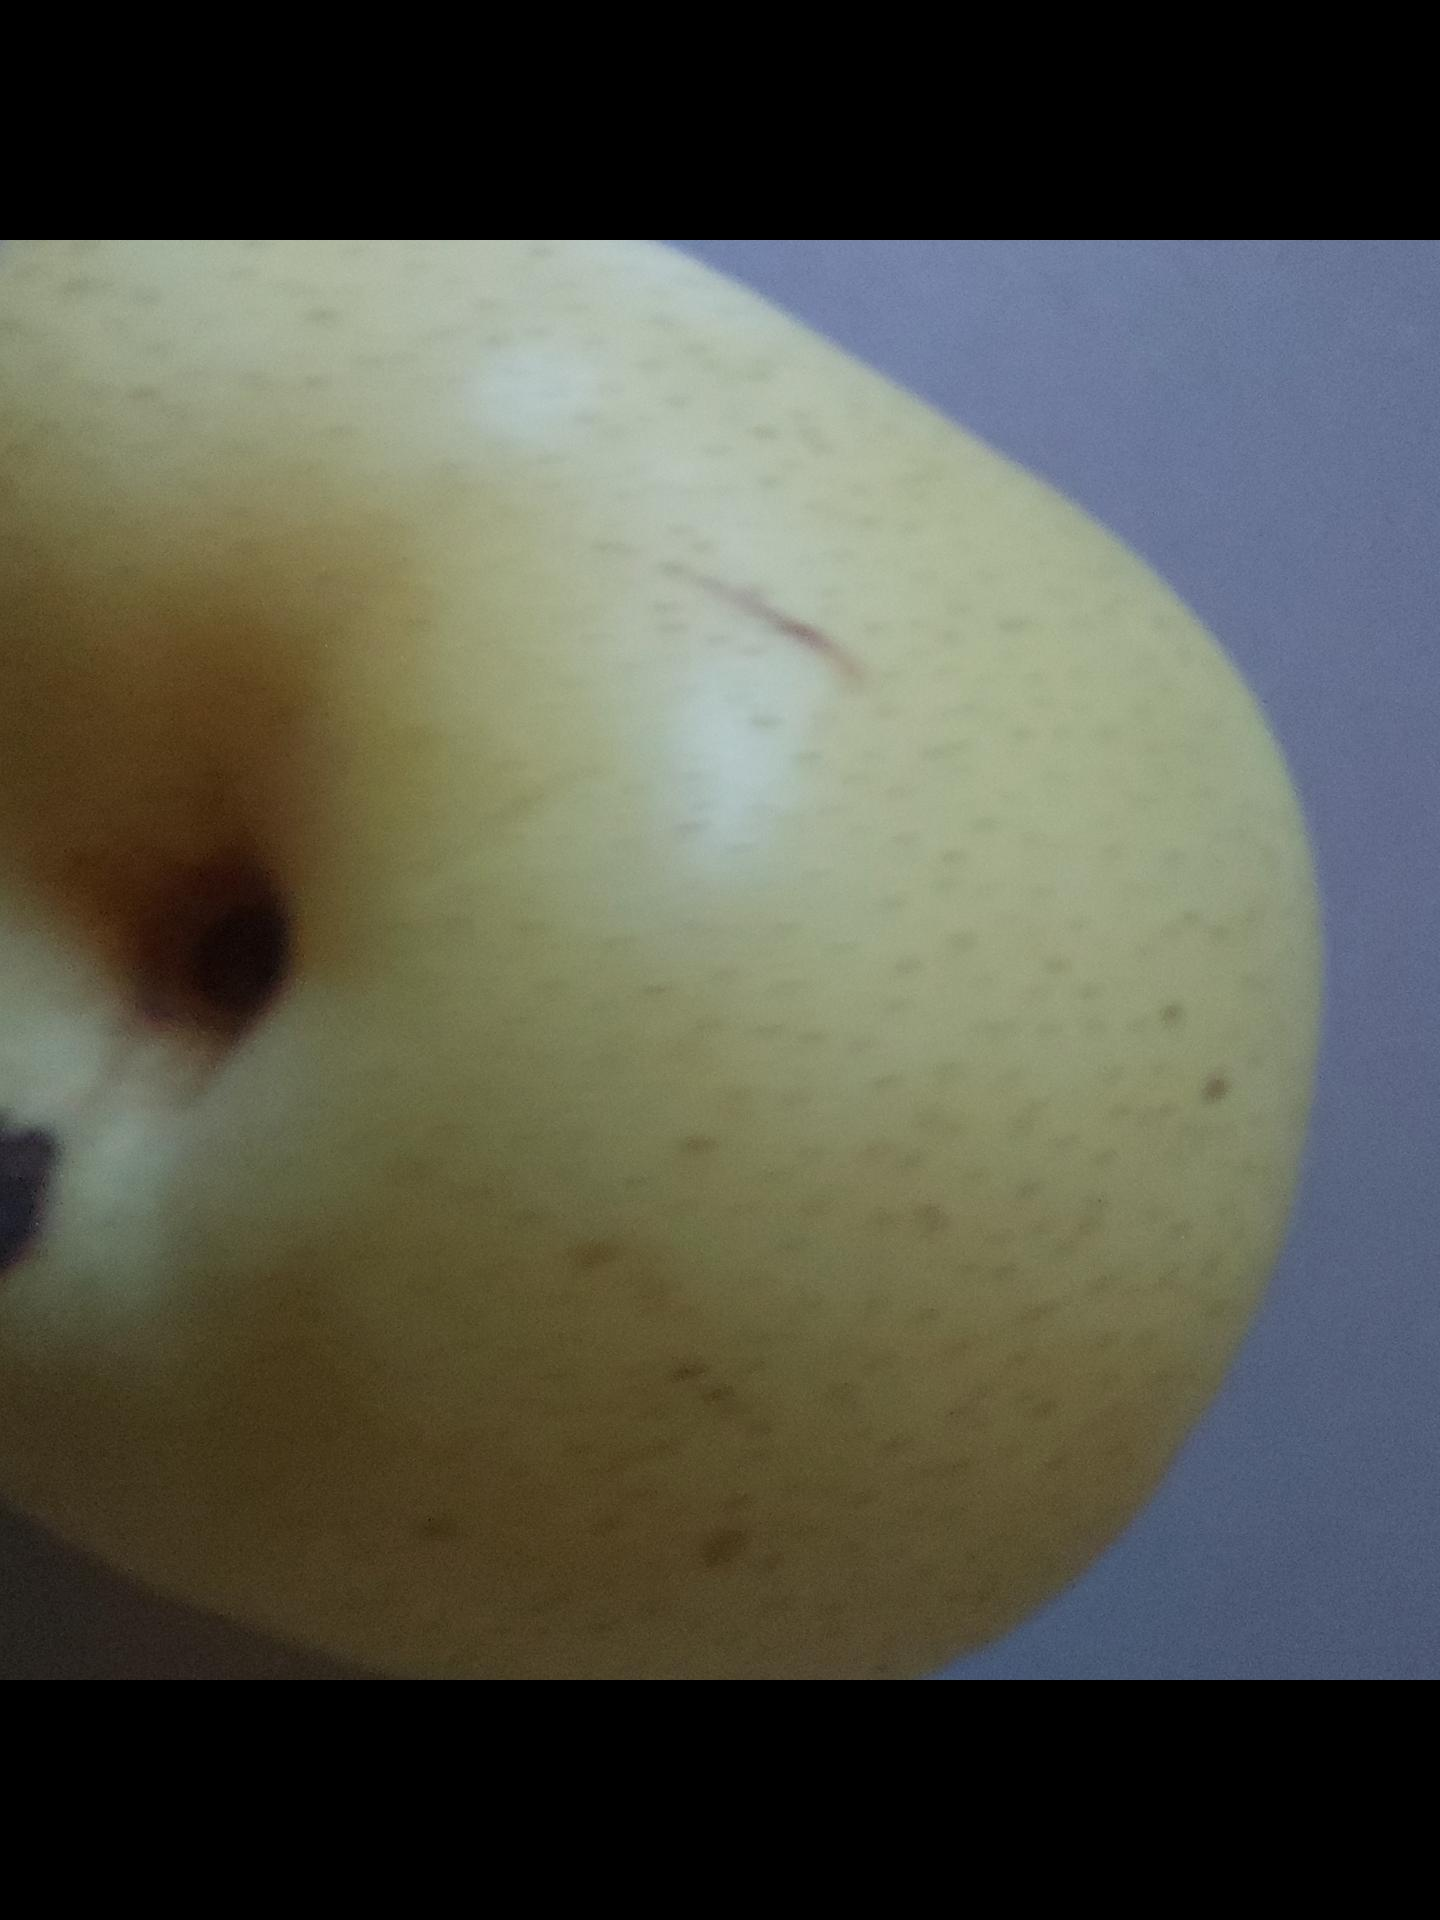Good Pear: (0, 240, 1339, 1680)
